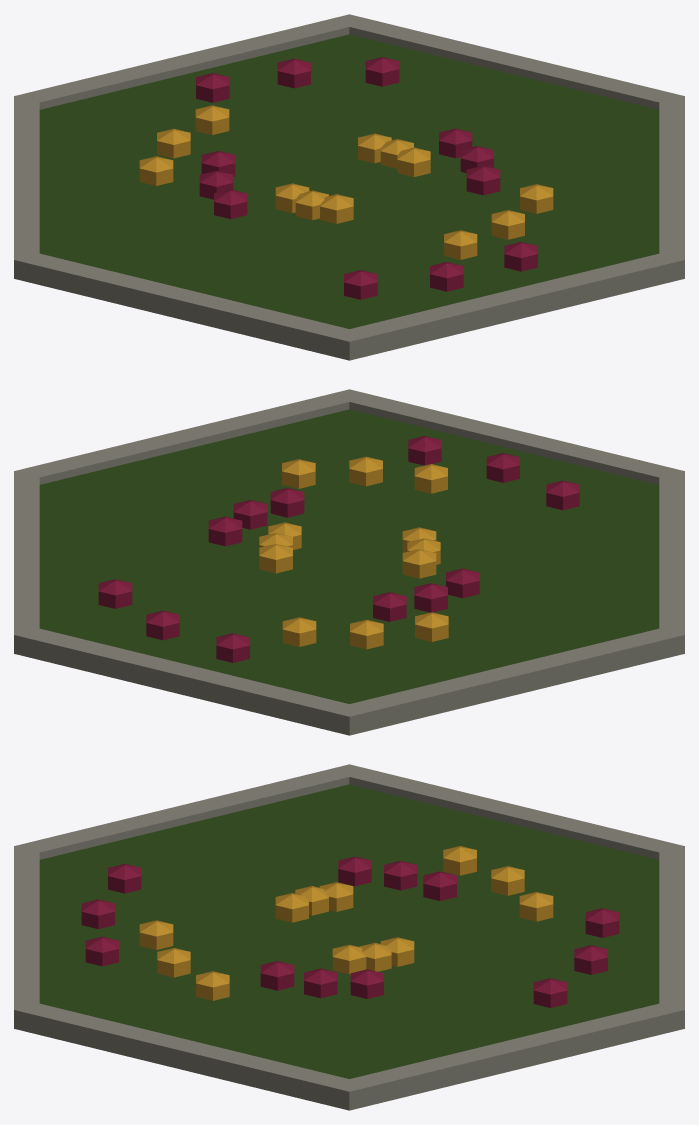
Rendered from square6.glb.
3 views of the same model, one above another, from view 1: azimuth 30°, elevation 25°; view 2: azimuth 150°, elevation 25°; view 3: azimuth 270°, elevation 25° (orthographic).
Visible parts, largest first — view 1: square6; view 2: square6; view 3: square6.
Boxes of the visible parts, x1,y1,x2,y2 form: square6: (14, 14, 684, 360); square6: (14, 389, 684, 735); square6: (14, 764, 684, 1110).
Bounding box in the file's own units: 52 × 2.4 × 45.03.
